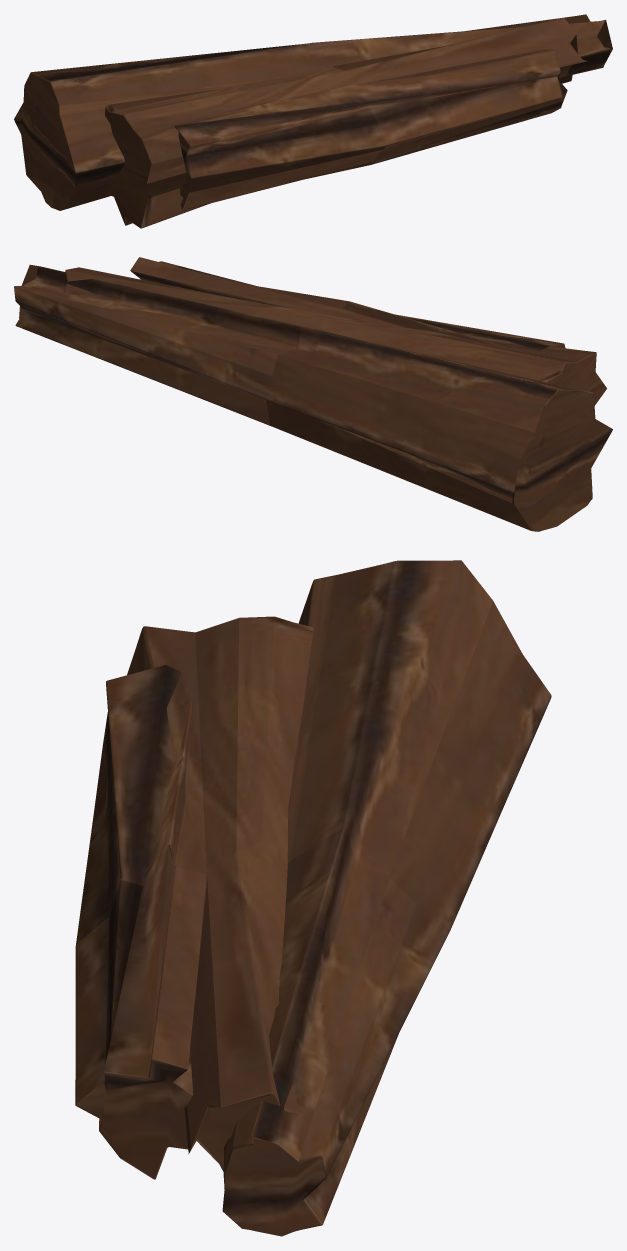
File: rootwood.glb
The picture shows the model from 3 angles, top to bottom: view 1: azimuth 30°, elevation 25°; view 2: azimuth 150°, elevation 25°; view 3: azimuth 270°, elevation 25°; orthographic projection. The views are drawn at different scales.
Parts seen in each view (by area): view 1: model; view 2: model; view 3: model.
Boxes of the visible parts, x1=… form: model: x1=14, y1=14, x2=612, y2=228; model: x1=14, y1=257, x2=612, y2=531; model: x1=75, y1=560, x2=551, y2=1236.
Bounding box in the file's own units: 0.4314 × 0.0946 × 0.1662.
1 material, 1 textured.
